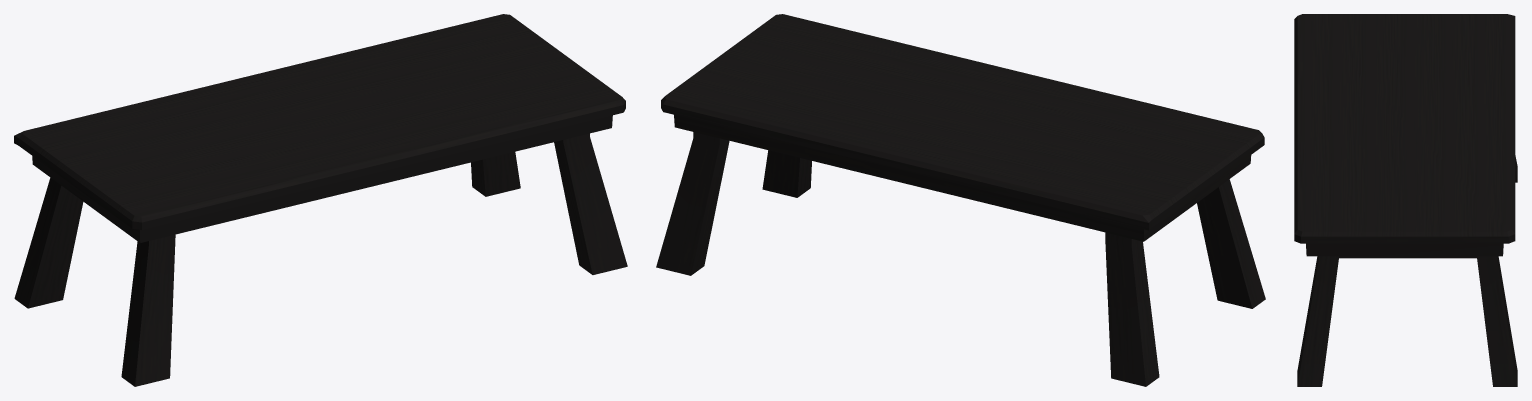
File: Bench_B.FBX
3 renders of one model, left to right at view 1: azimuth 30°, elevation 25°; view 2: azimuth 150°, elevation 25°; view 3: azimuth 270°, elevation 25°, orthographic. The views are drawn at different scales.
Parts seen in each view (by area): view 1: Bench; view 2: Bench; view 3: Bench.
Boxes of the visible parts, x1=… form: Bench: x1=14, y1=14, x2=627, y2=386; Bench: x1=656, y1=14, x2=1265, y2=386; Bench: x1=1294, y1=14, x2=1517, y2=386.
Bounding box in the file's own units: 281 × 91.5 × 120.
